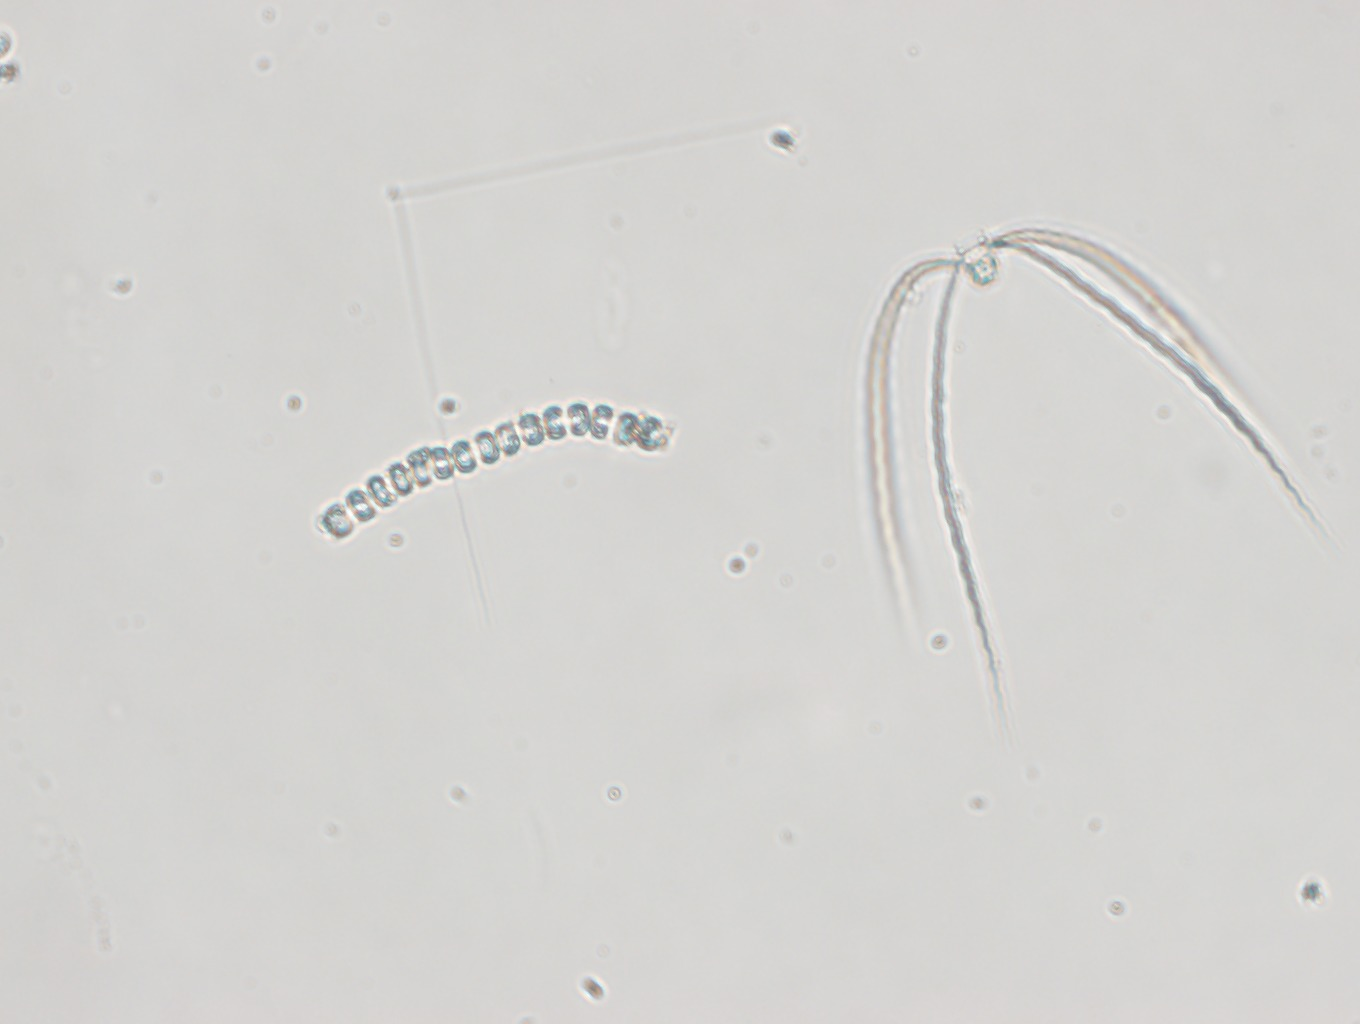chaetoceros: (863, 225, 1330, 721)
